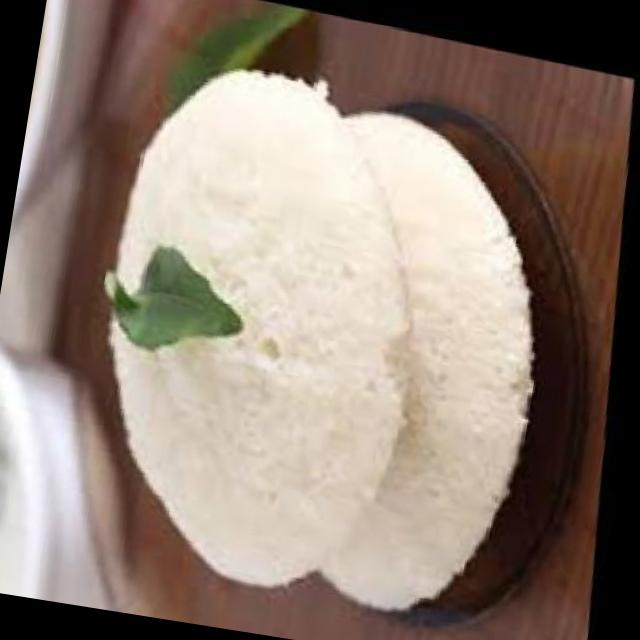idli: (62, 43, 472, 610), (274, 104, 588, 630)
